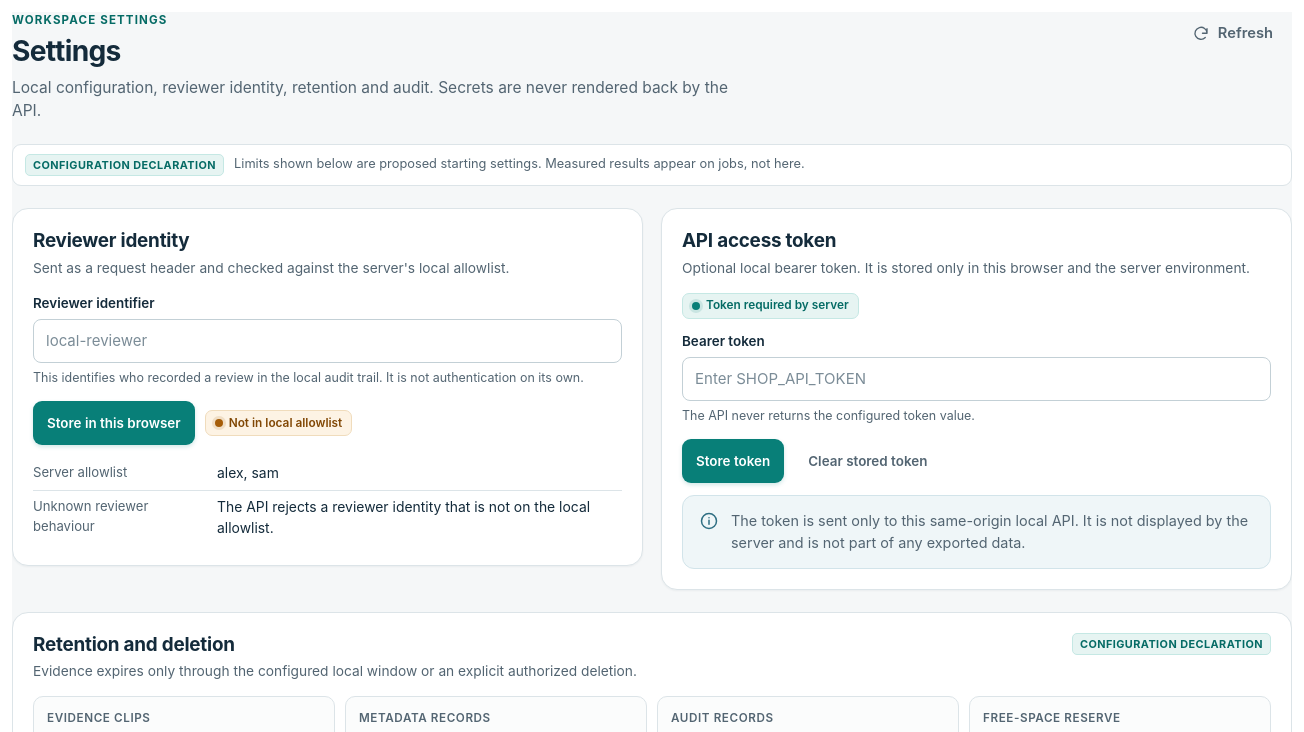
Test: SettingsPage › stores the API token in this browser and clears the input
Check: the text "Token required by server" is shown, box [682,293,859,319]
Type "secret-local-token" into the password field labelled "Bearer token" at coordinates (976, 379), box [682,357,1271,401]
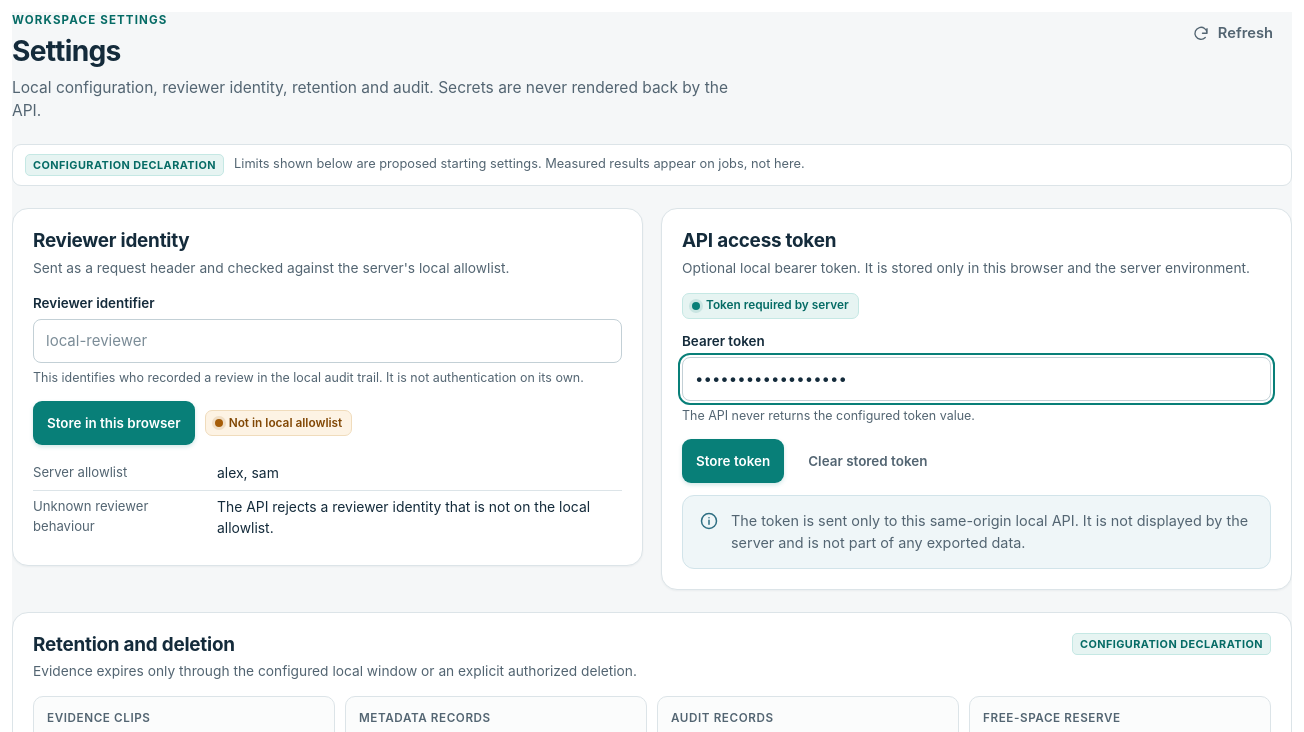
Click the button "Store token" at coordinates (733, 461), box [682,439,784,483]
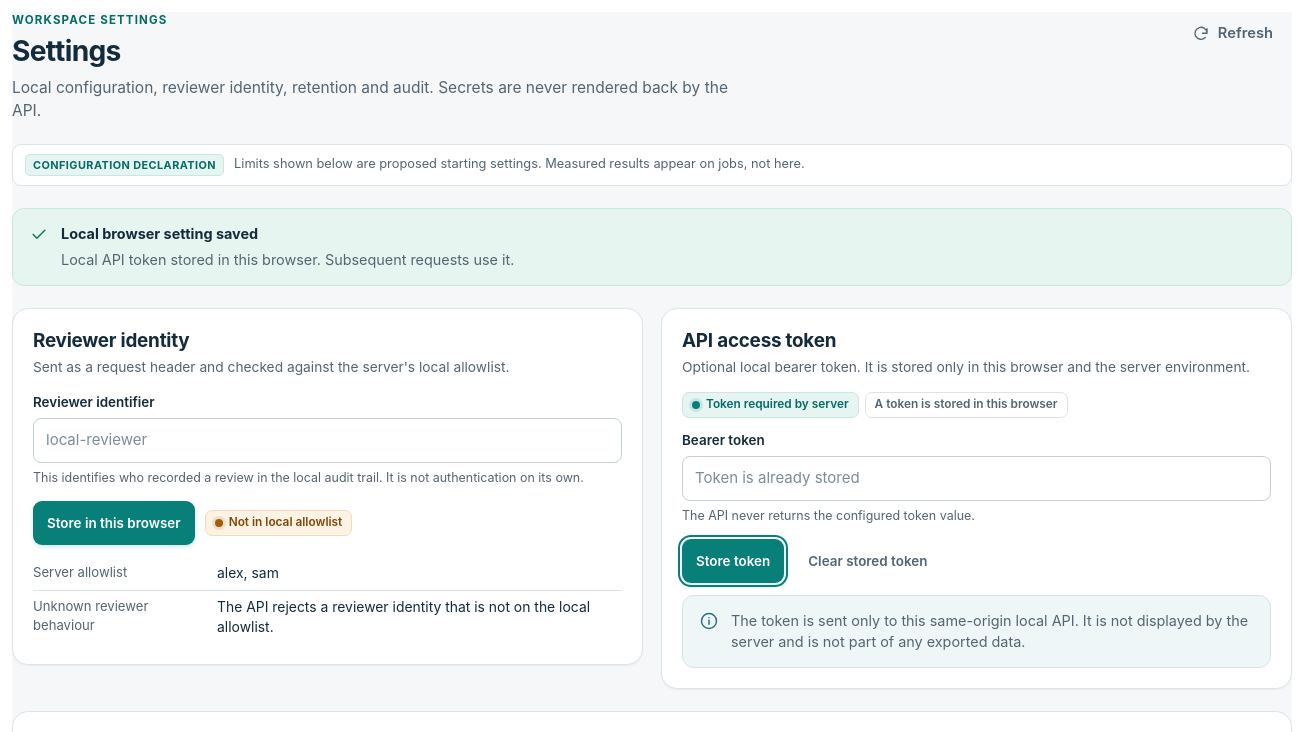
Check: the text "Local API token stored in this browser" is shown, box [61,251,514,268]
Click the button "Clear stored token" at coordinates (868, 561), box [794,539,941,583]
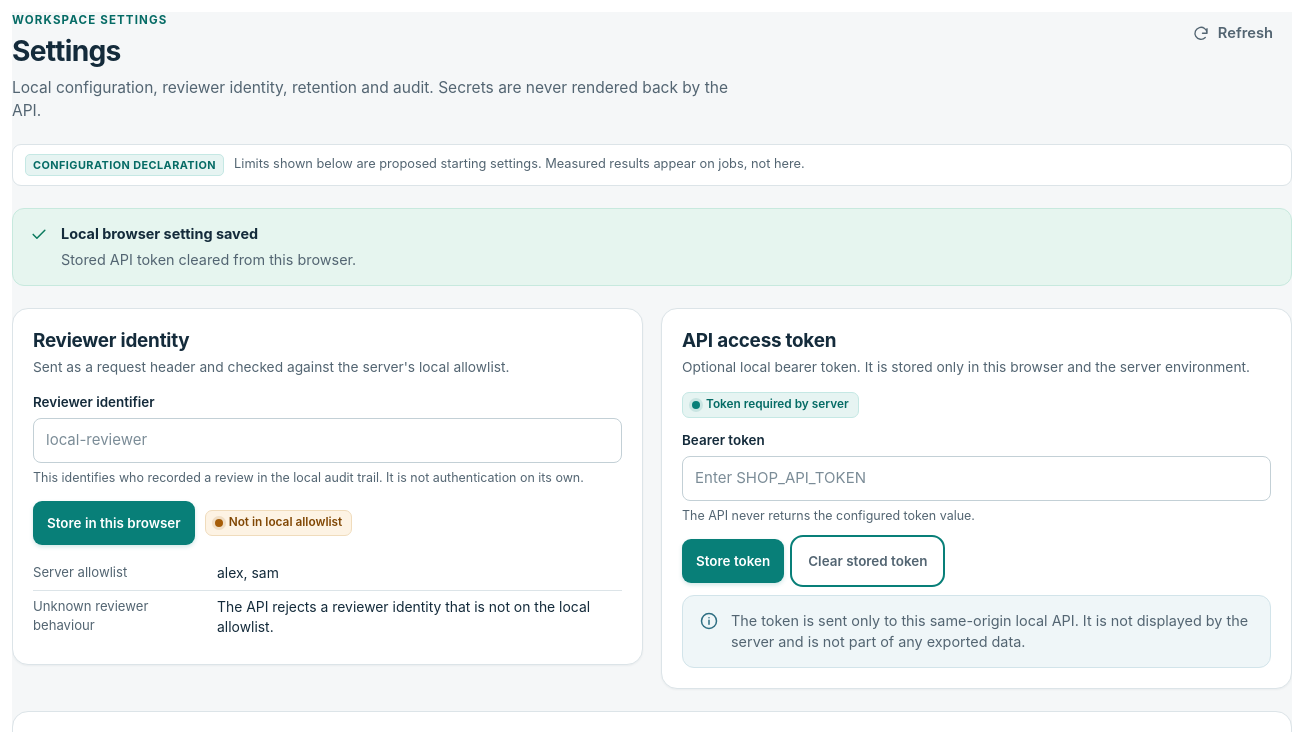
Check: the text "Stored API token cleared from this browser." is shown, box [61,251,356,268]
